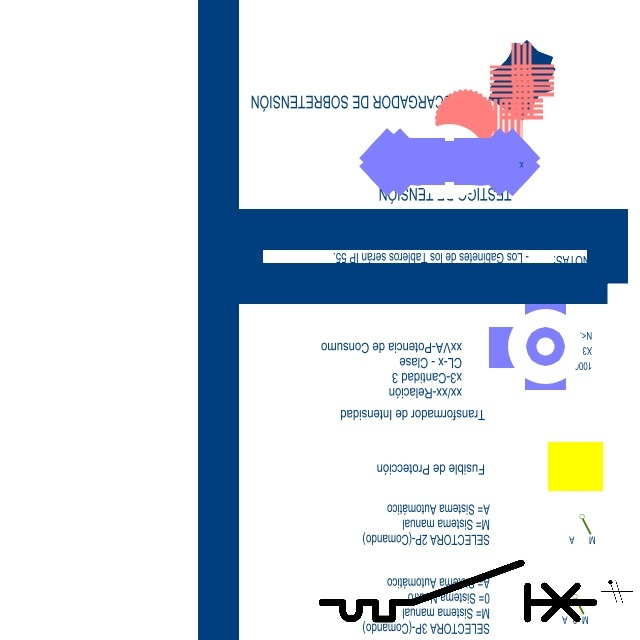interruptor_termomagnetico: (315, 556, 600, 626)
